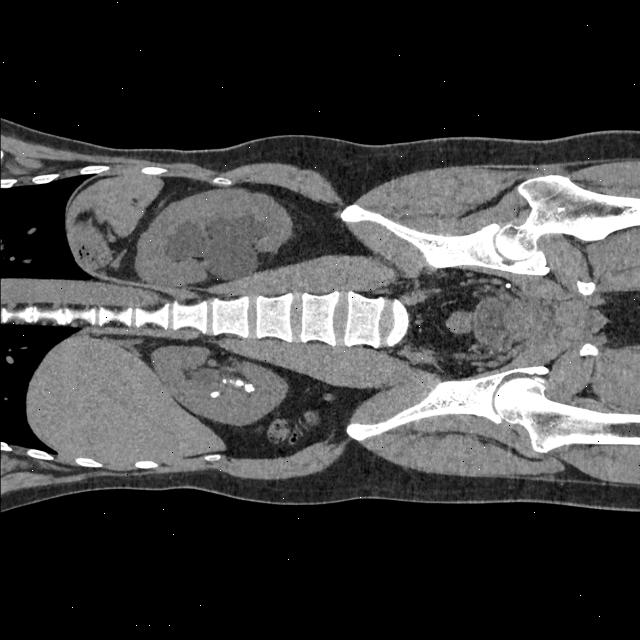kidneystone: (222, 378, 243, 385), (244, 382, 255, 391), (210, 390, 218, 398)
